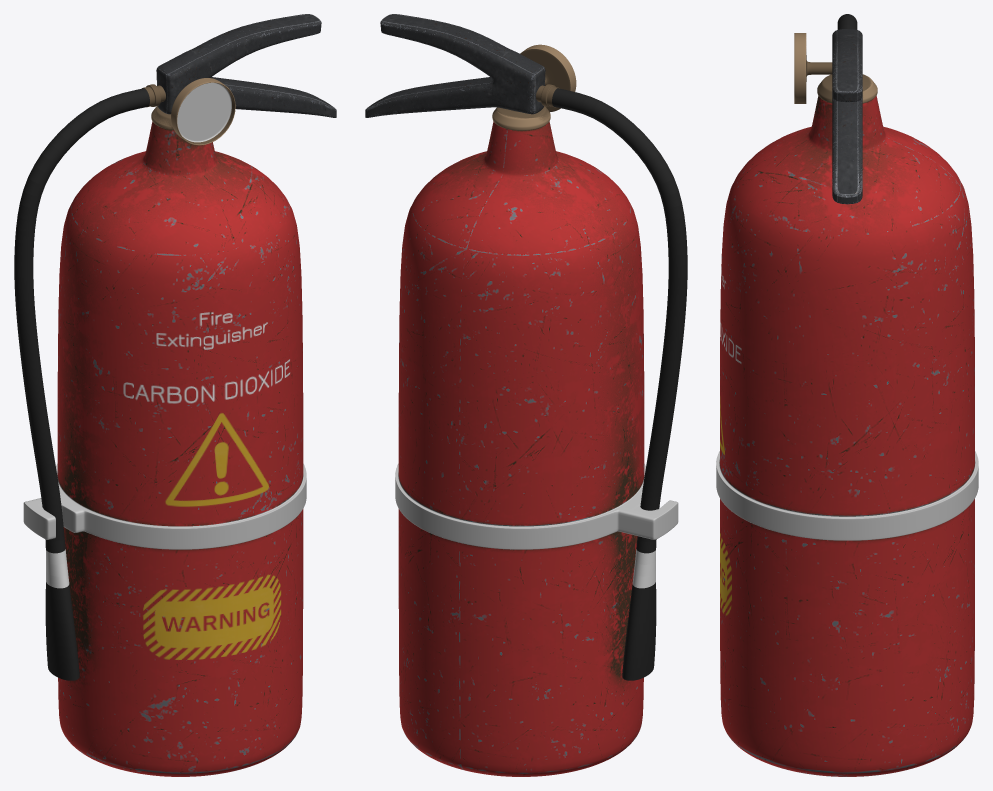
The model's file is Fire Extinguisher.fbx.
3 renders of one model, left to right at view 1: azimuth 30°, elevation 25°; view 2: azimuth 150°, elevation 25°; view 3: azimuth 270°, elevation 25°, orthographic. The views are drawn at different scales.
Visible parts, largest first — view 1: Body, Pipe, Presser, Gauge; view 2: Body, Pipe, Presser, Gauge, Steel Part; view 3: Body, Presser, Gauge, Steel Part.
Part boxes in pixels (x1,y1,x2,y2): Body: [23, 121, 306, 776]; Pipe: [14, 88, 149, 680]; Presser: [156, 14, 336, 117]; Gauge: [171, 78, 235, 145]; Body: [395, 121, 678, 776]; Pipe: [552, 88, 687, 680]; Presser: [365, 14, 545, 117]; Gauge: [520, 44, 576, 111]; Steel Part: [492, 106, 550, 130]; Body: [716, 96, 978, 776]; Presser: [832, 29, 862, 204]; Gauge: [794, 33, 832, 103]; Steel Part: [817, 74, 877, 103].
Size of the model in its own units: 45.22 by 93.4 by 31.15.
